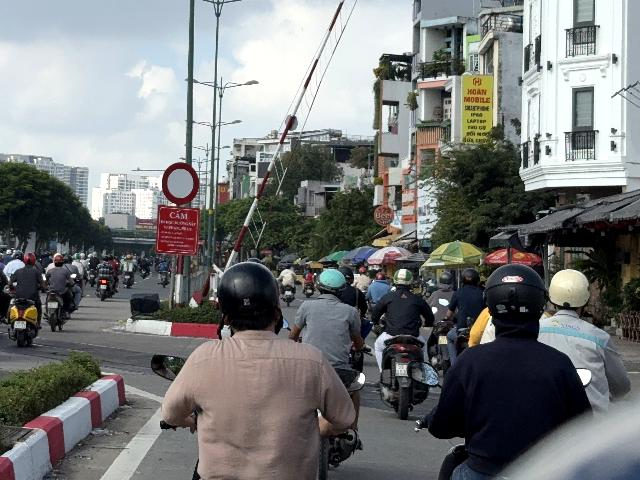duong-cam: (161, 161, 198, 203)
